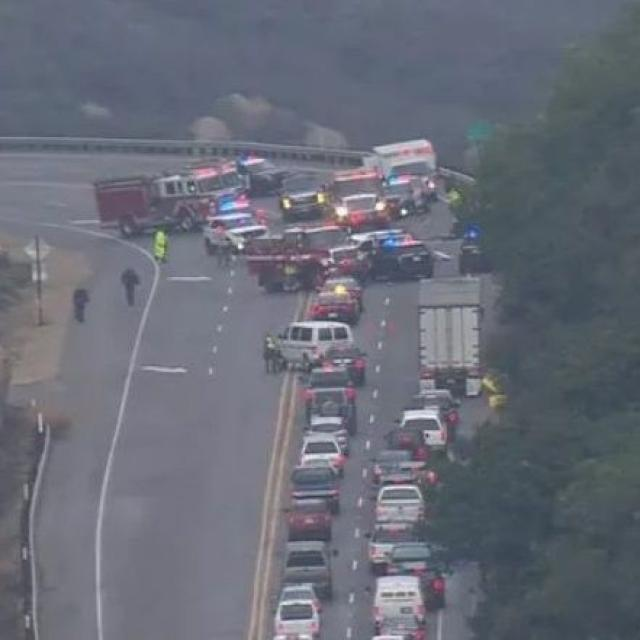traffic_incident: (202, 158, 431, 294)
